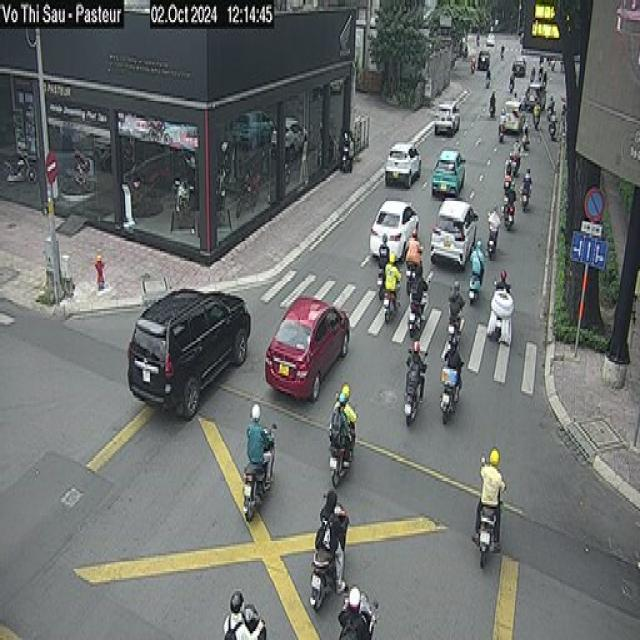car: (130, 289, 256, 413), (264, 296, 350, 402), (428, 198, 478, 266), (369, 198, 419, 262), (431, 146, 465, 198), (384, 140, 421, 187), (434, 100, 460, 136), (498, 98, 522, 133)
motorcycle: (239, 439, 284, 511), (293, 545, 336, 614), (471, 495, 501, 569), (327, 418, 355, 487), (353, 575, 384, 632), (402, 358, 427, 427), (438, 360, 462, 424), (244, 600, 270, 640), (487, 296, 512, 336), (406, 295, 431, 333), (445, 314, 469, 339), (377, 267, 392, 306), (500, 167, 518, 197), (486, 222, 499, 258), (503, 196, 515, 231), (343, 149, 356, 181), (468, 271, 480, 305), (517, 134, 536, 154), (519, 180, 531, 211), (509, 151, 524, 175), (549, 123, 563, 148), (489, 104, 500, 120)
person: (472, 447, 506, 551), (319, 486, 346, 600), (212, 578, 256, 640), (245, 402, 274, 493), (404, 330, 433, 400), (338, 584, 373, 638), (447, 334, 466, 400), (382, 251, 402, 313), (337, 378, 358, 437), (493, 256, 512, 321), (334, 388, 348, 470), (447, 278, 465, 331), (472, 239, 484, 285), (547, 101, 564, 133), (506, 184, 520, 222), (342, 126, 356, 164), (406, 228, 417, 266), (487, 202, 498, 236), (522, 115, 534, 146), (506, 149, 516, 186), (522, 163, 530, 200), (343, 124, 348, 162), (488, 86, 497, 106)
